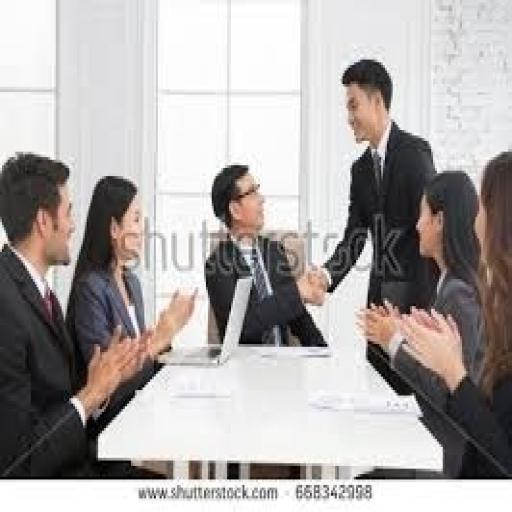clapping: (0, 149, 150, 479), (64, 170, 198, 476), (400, 146, 510, 480)
